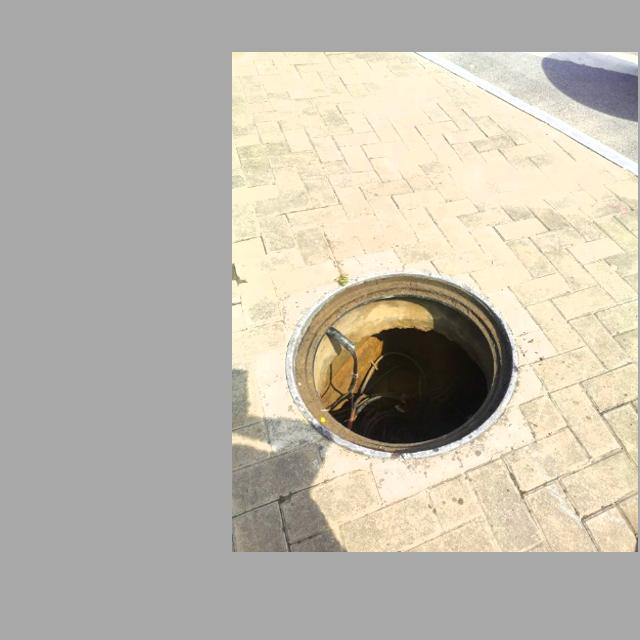lose: (283, 270, 520, 457)
